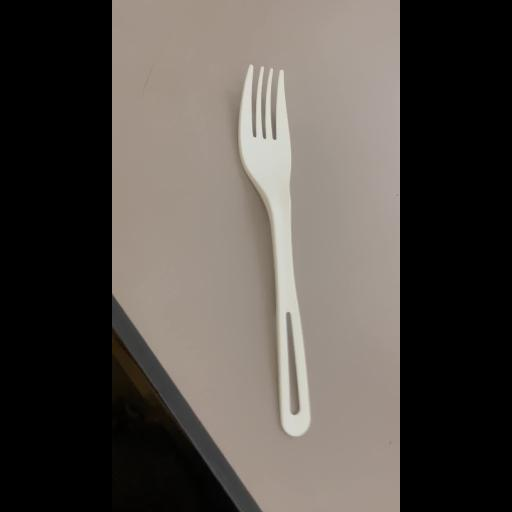utensil: (232, 63, 336, 437)
